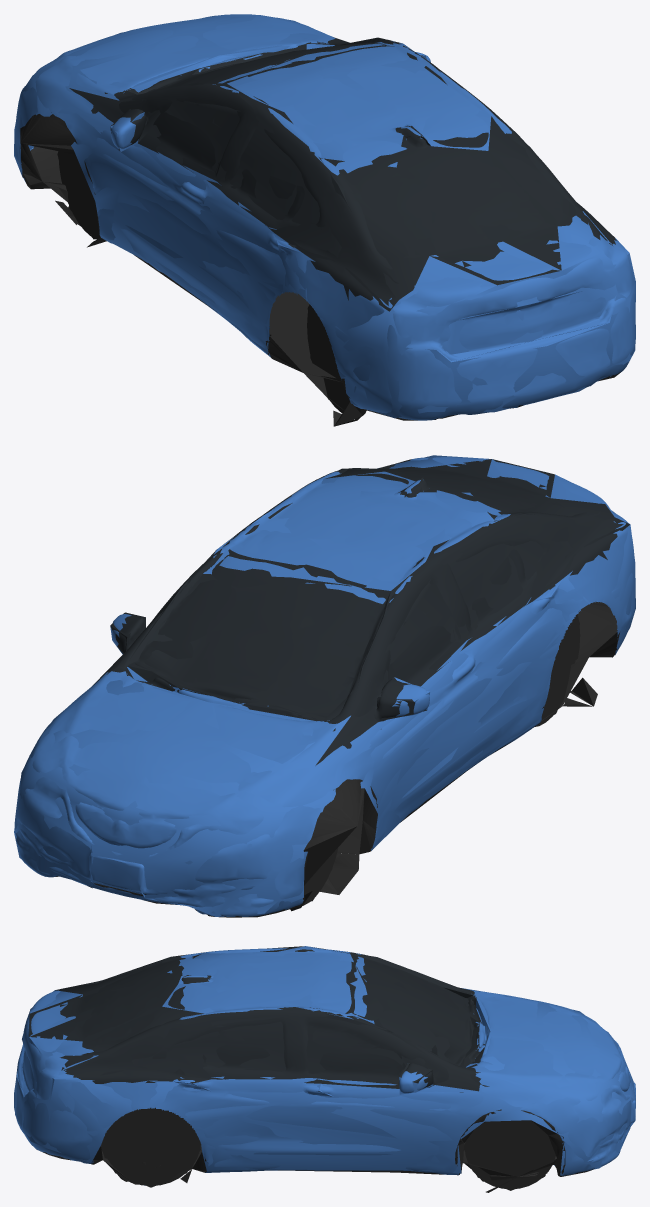
File: acura-tlx.glb
3 views of the same model, one above another, from view 1: azimuth 30°, elevation 25°; view 2: azimuth 150°, elevation 25°; view 3: azimuth 270°, elevation 25° (orthographic). The views are drawn at different scales.
Parts seen in each view (by area): view 1: body, far; view 2: body, far; view 3: body, far.
Part boxes in pixels (bbox=[...]): body: bbox=[14, 14, 635, 426]; far: bbox=[14, 15, 635, 420]; body: bbox=[14, 457, 635, 917]; far: bbox=[14, 455, 635, 916]; body: bbox=[14, 948, 635, 1192]; far: bbox=[14, 946, 635, 1190].
Bounding box in the file's own units: 2.18 × 1.52 × 4.89.
